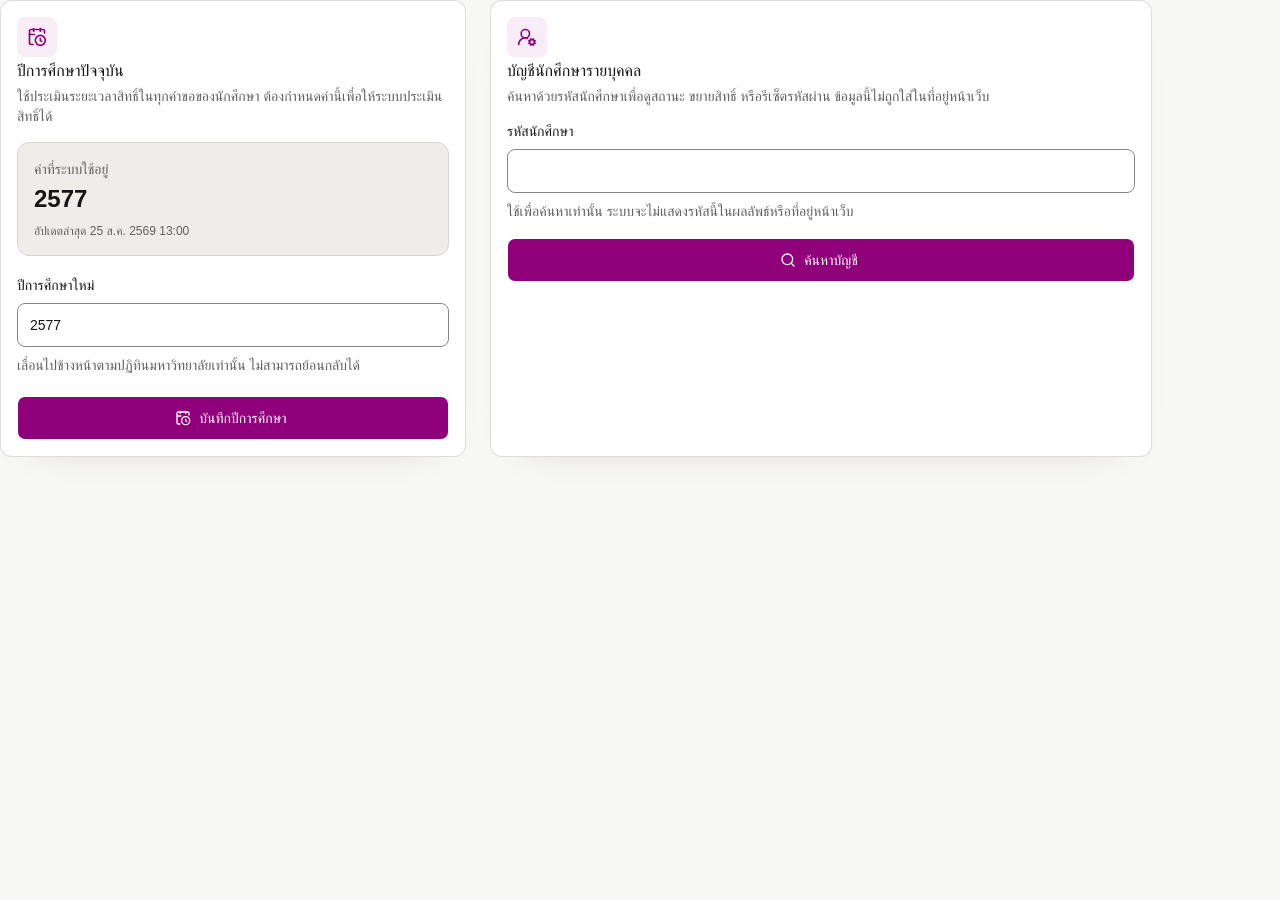
Test: Admin Account controls panel › submits an explicit audited Roster Name correction
This screenshot has width=1280, height=900.
In the field labelled "รหัสนักศึกษา": x=821, y=171 [507,149,1135,193], type "69000001"
Click the button "ค้นหาบัญชี": x=821, y=260 [507,238,1135,282]
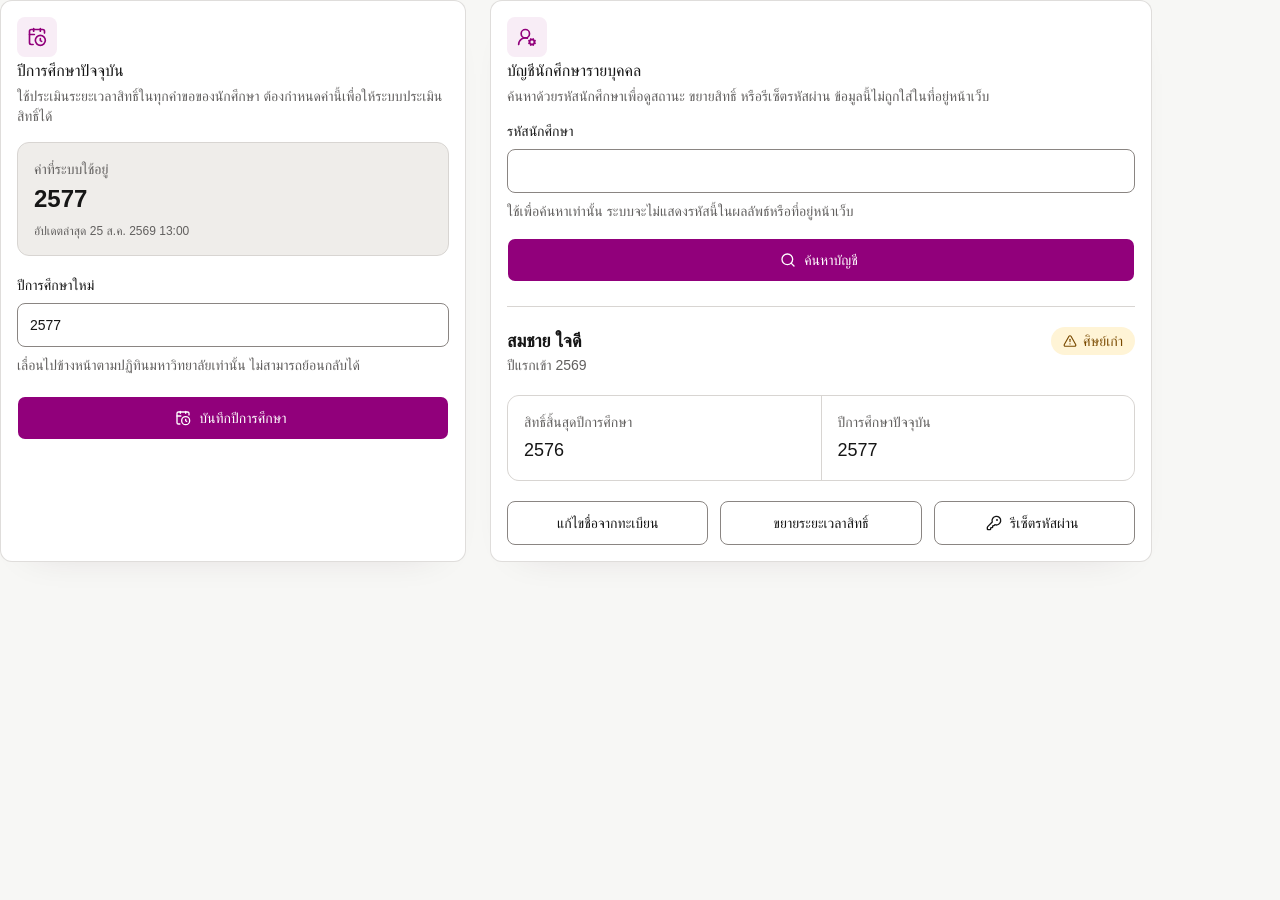
Click the button "แก้ไขชื่อจากทะเบียน": x=608, y=523 [507,501,708,545]
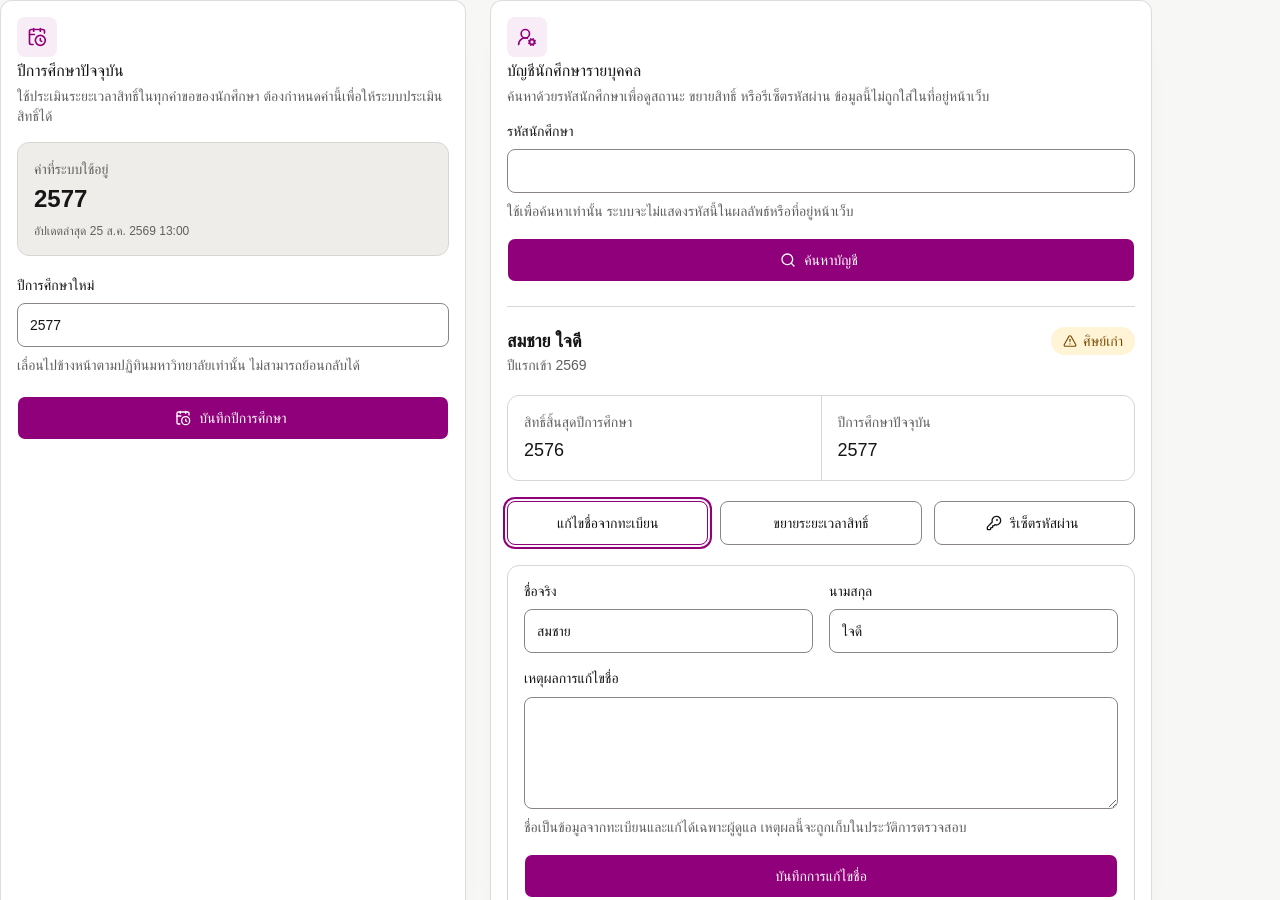
Replace the text in the field labelled "ชื่อจริง" with "สมหญิง": x=668, y=631 [524,609,813,653]
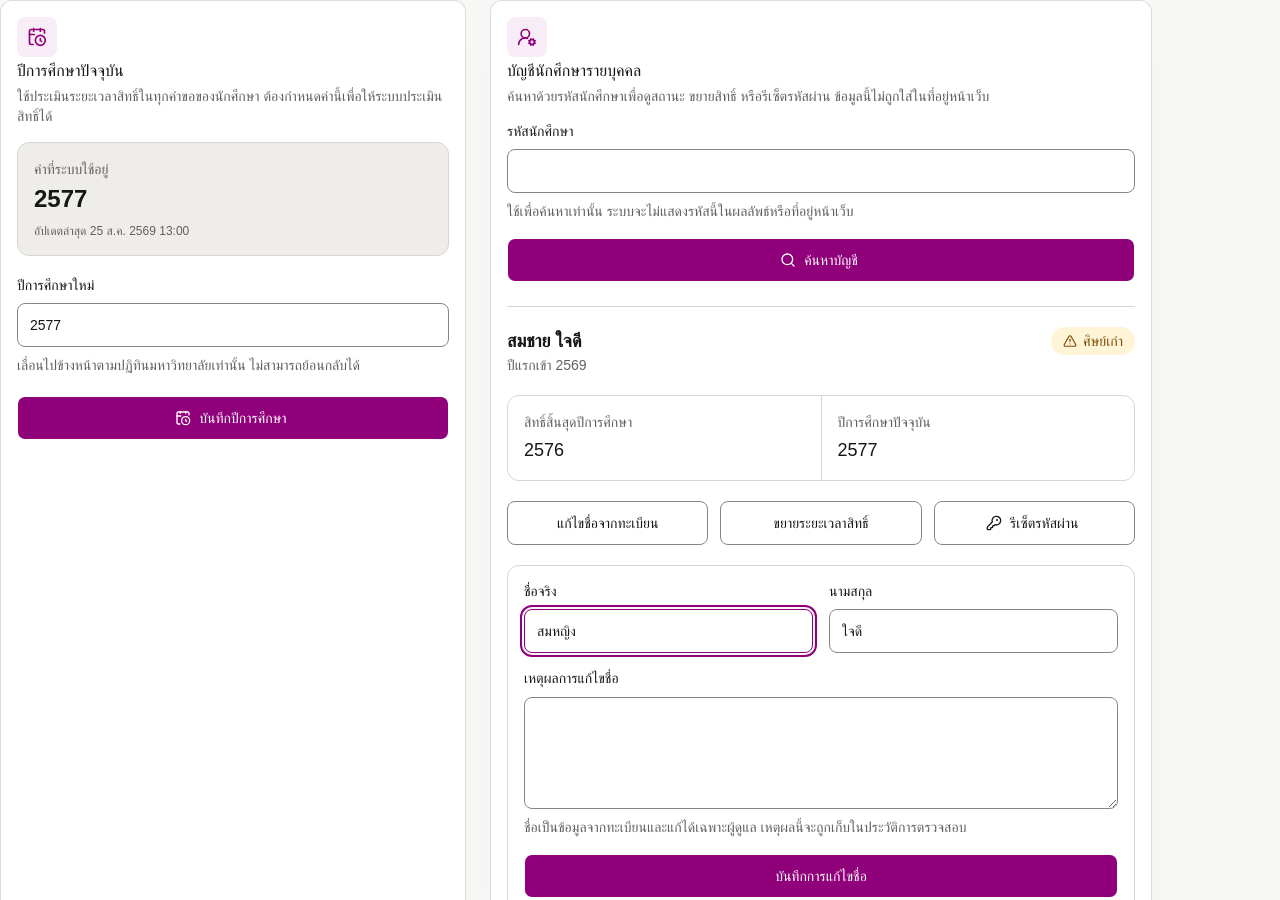
Replace the text in the field labelled "นามสกุล" with "มั่นใจ": x=974, y=631 [829,609,1118,653]
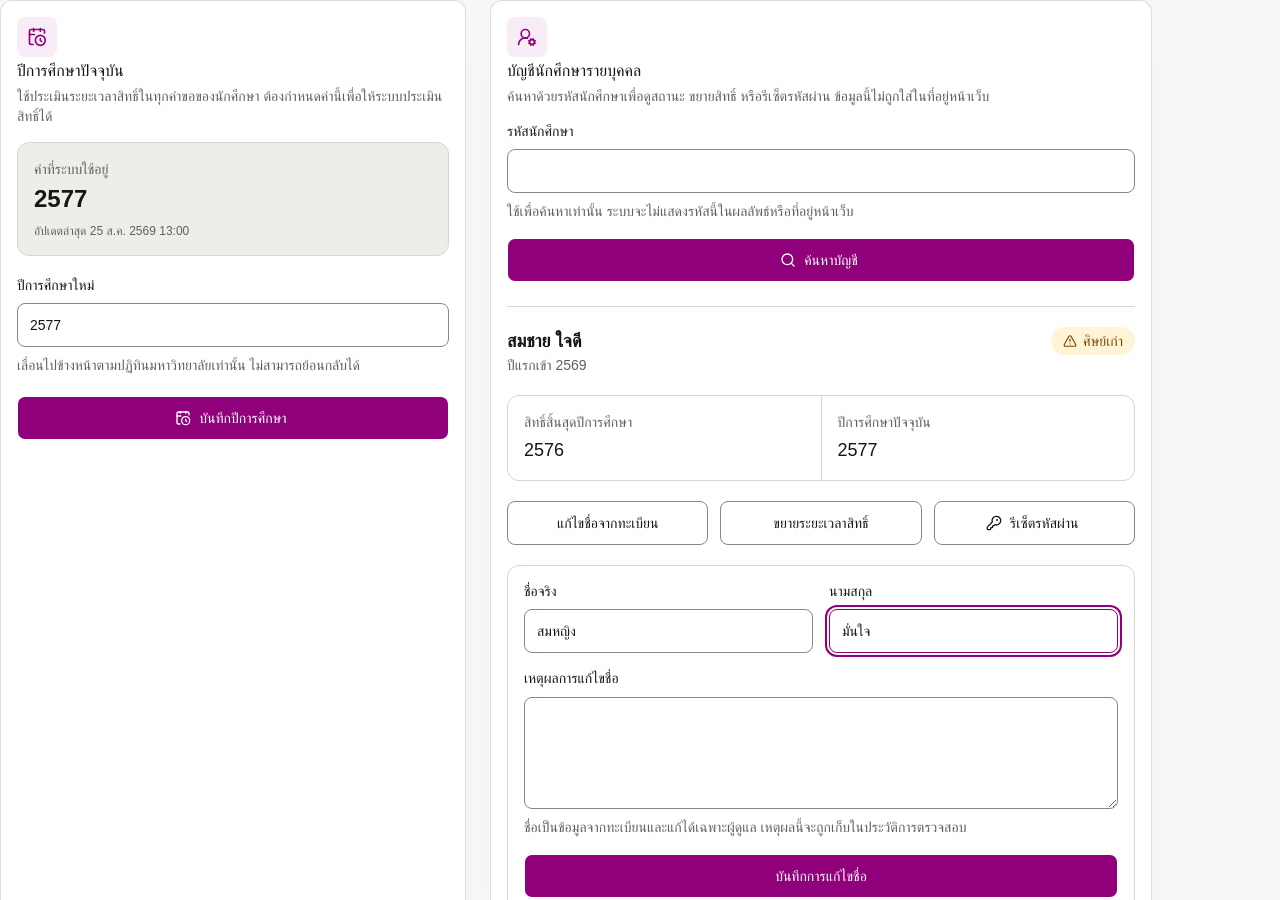
In the text box labelled "เหตุผลการแก้ไขชื่อ": x=821, y=752 [524,696,1118,808], type "แก้ไขตามหลักฐานทะเบียน"
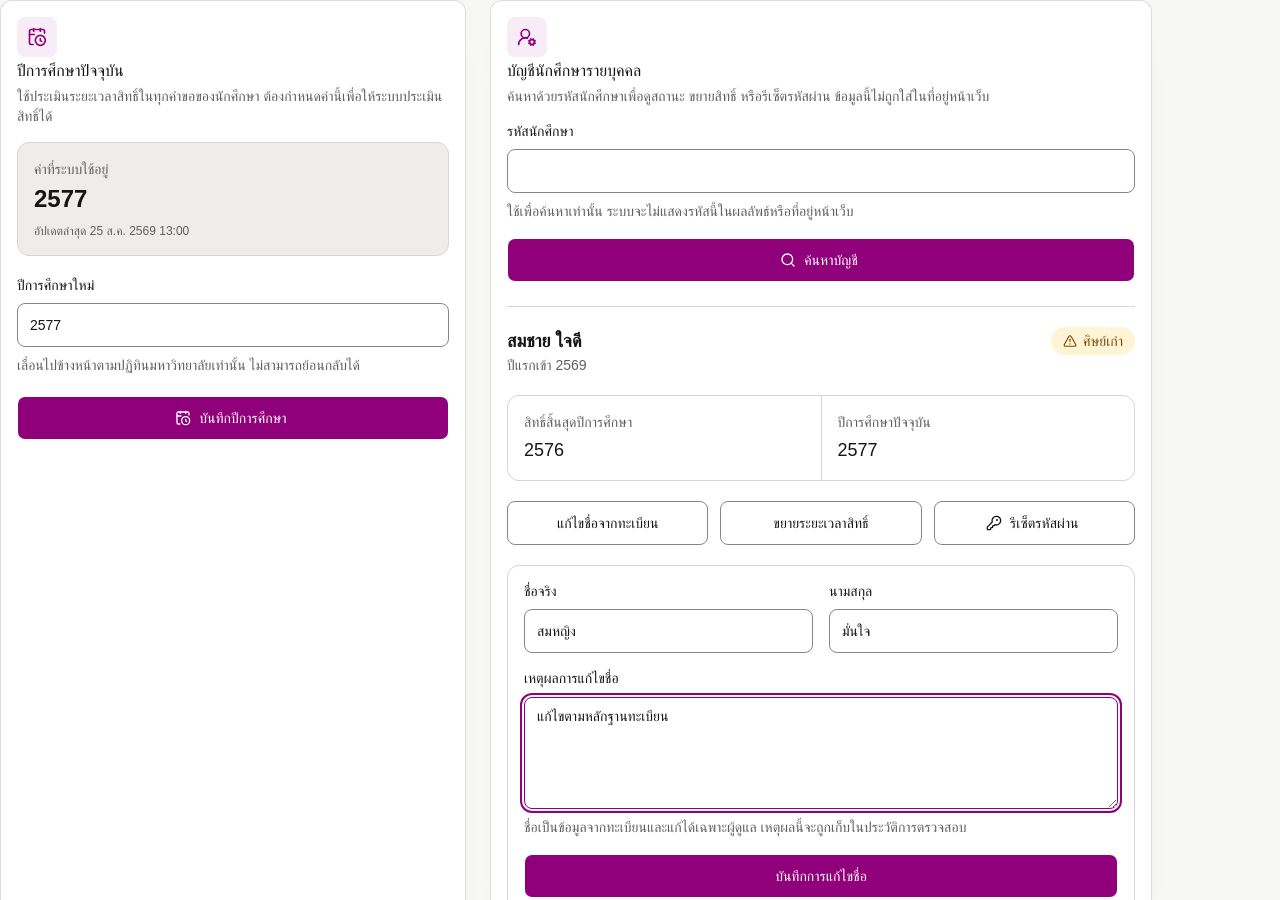
Click the button "บันทึกการแก้ไขชื่อ": x=821, y=876 [524,854,1118,898]
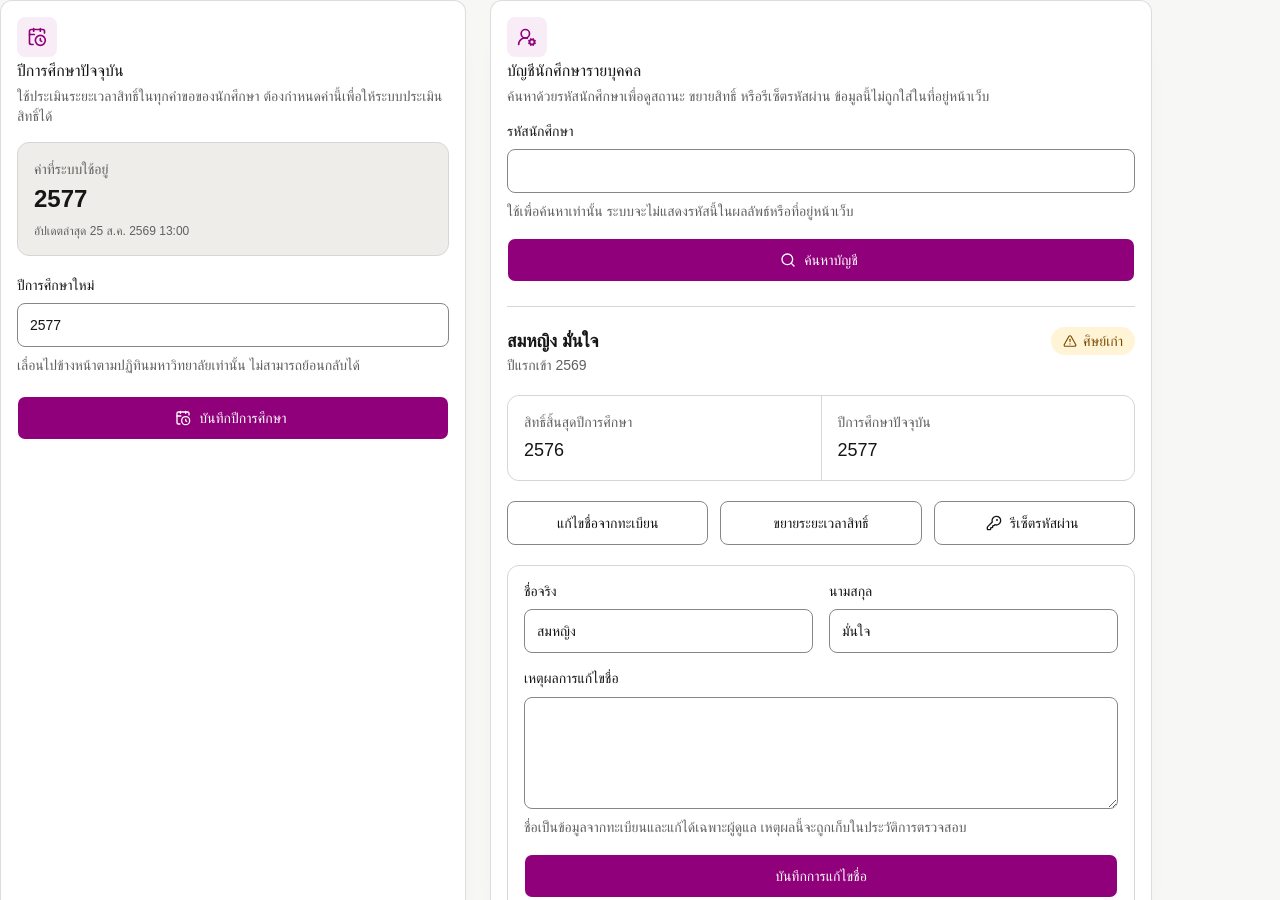
Now the text "สมหญิง มั่นใจ" is shown, box [507,327,598,355]
